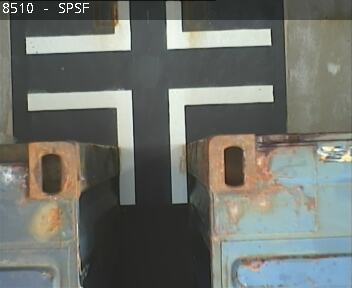groundmarker_1: (27, 83, 273, 204)
